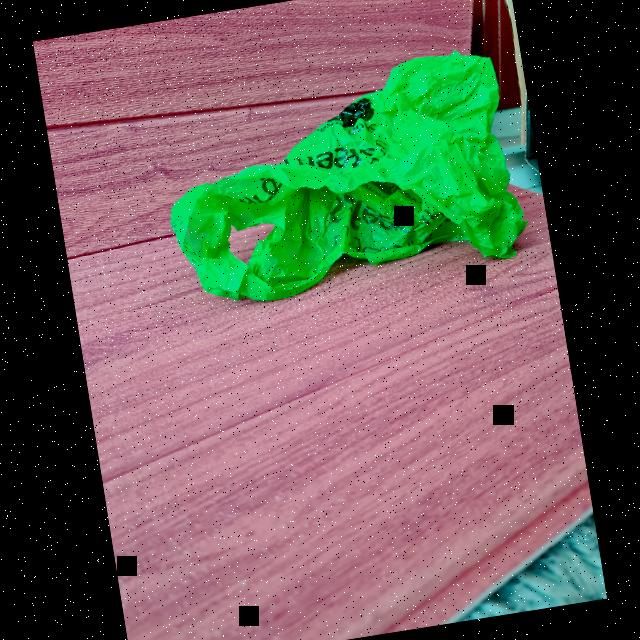plastic_bag: (168, 39, 530, 314)
